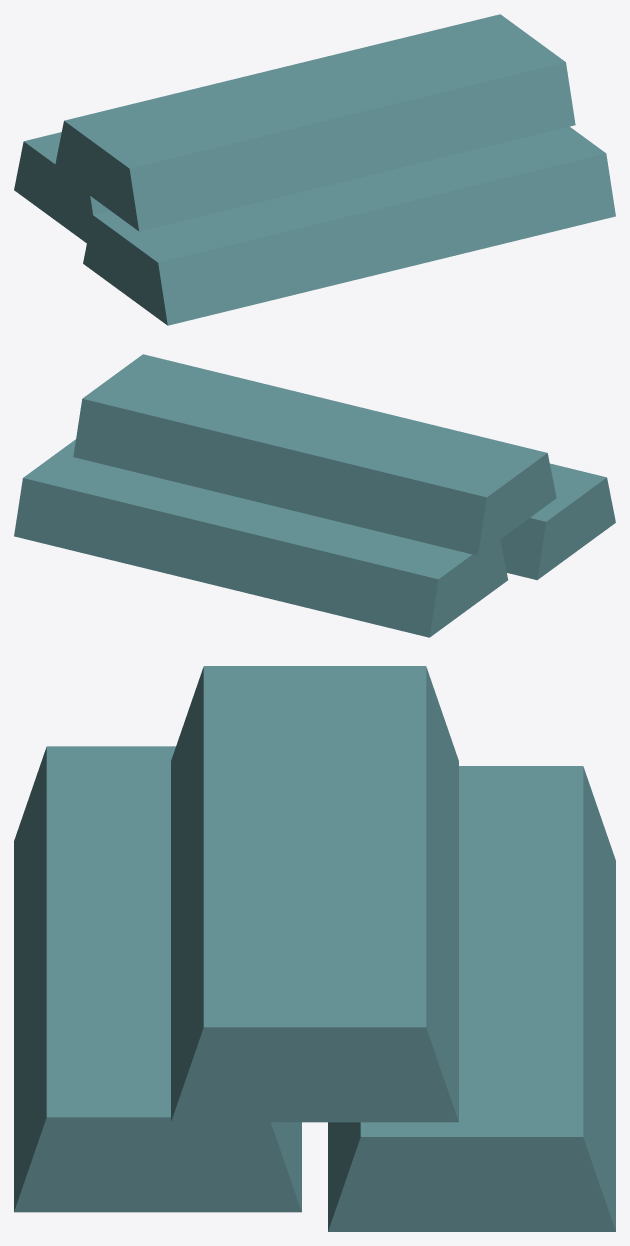
File: item_rm_plasteel_c.obj
3 renders of one model, top to bottom at view 1: azimuth 30°, elevation 25°; view 2: azimuth 150°, elevation 25°; view 3: azimuth 270°, elevation 25°, orthographic. The views are drawn at different scales.
Size of the model in its own units: 0.904 by 0.2048 by 0.5888.
